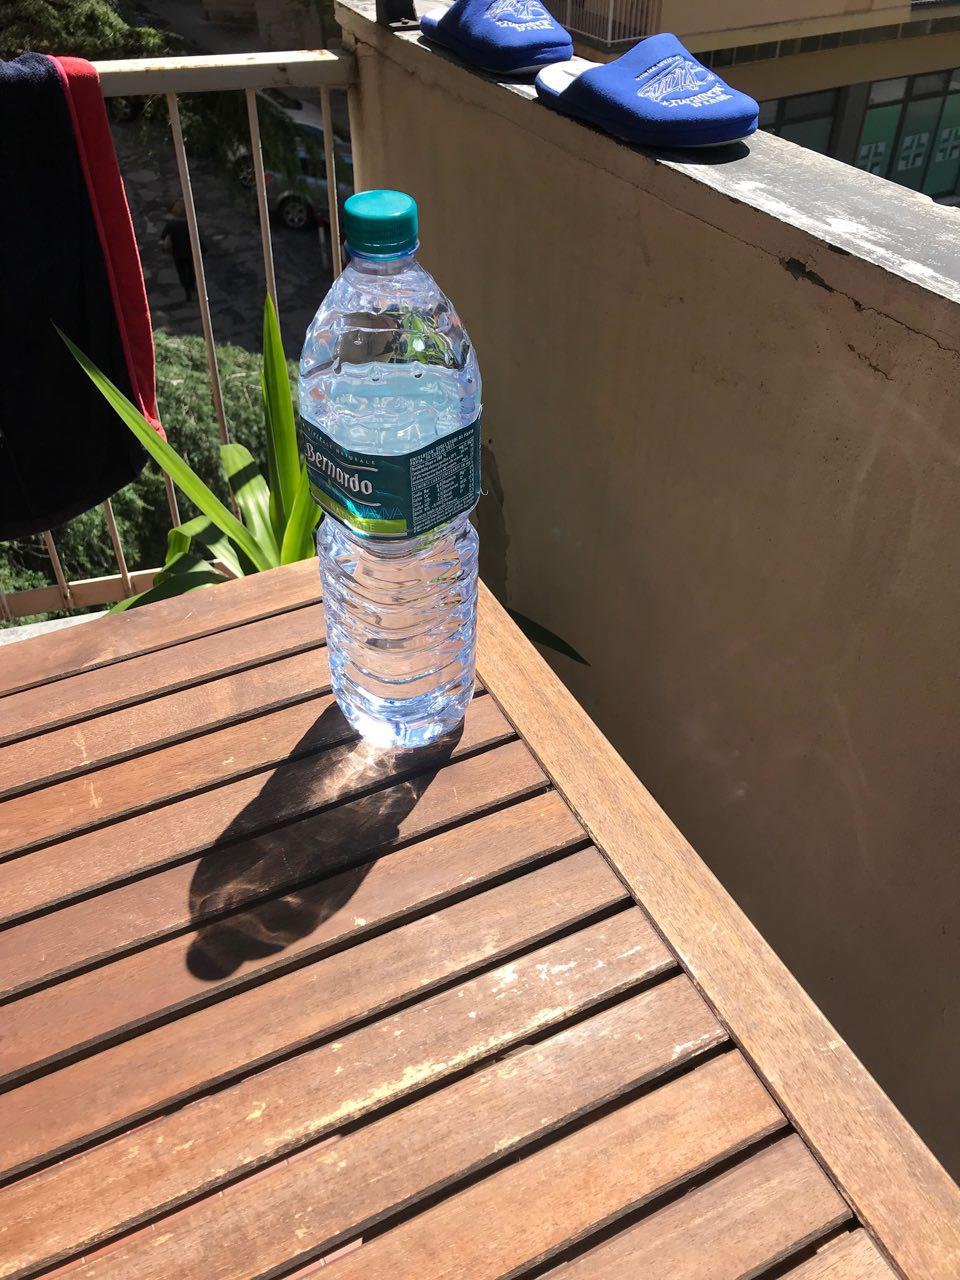san_bernardo: (295, 187, 482, 752)
